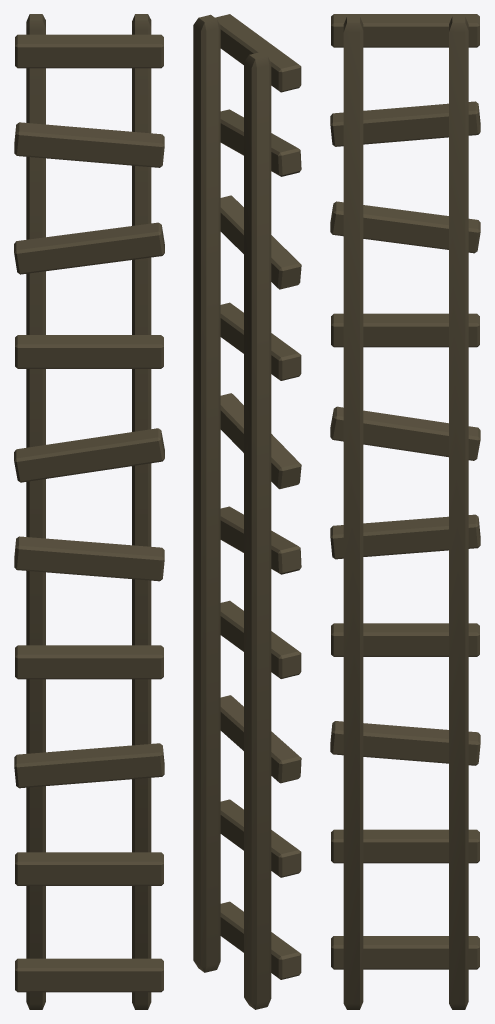
Rendered from escalera_02.fbx.
3 views of the same model, side by side, from view 1: azimuth 90°, elevation 25°; view 2: azimuth 210°, elevation 25°; view 3: azimuth 270°, elevation 25° (orthographic). The views are drawn at different scales.
Visible parts, largest first — view 1: escalera_02; view 2: escalera_02; view 3: escalera_02.
Part boxes in pixels (x1=…): escalera_02: x1=14, y1=14, x2=164, y2=1009; escalera_02: x1=193, y1=14, x2=301, y2=1009; escalera_02: x1=330, y1=14, x2=480, y2=1009.
Bounding box in the file's own units: 23.56 × 490 × 67.58.
